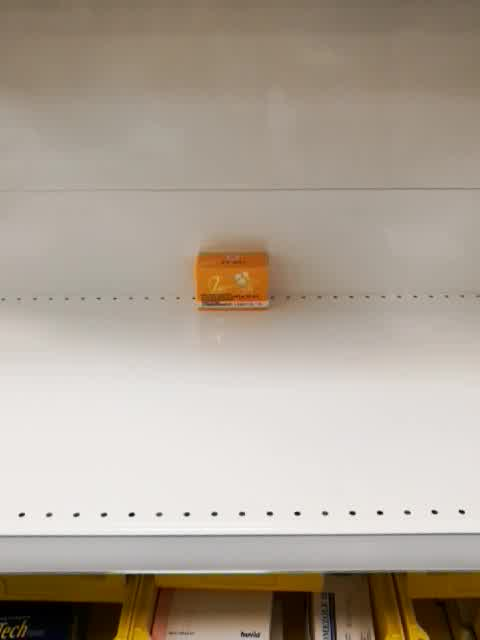jasminetea: (195, 252, 269, 311)
